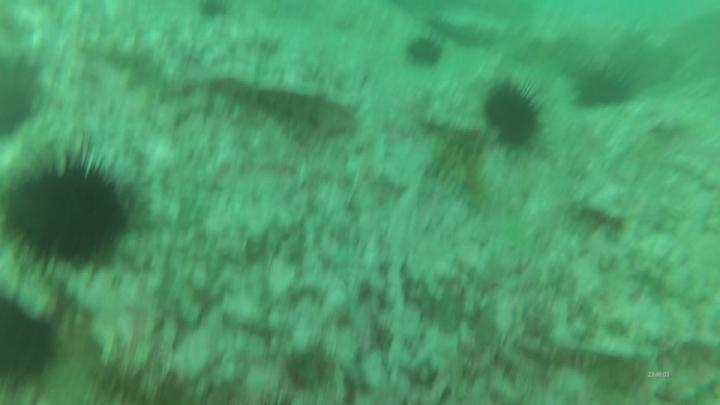echinus: (1, 140, 141, 283), (2, 288, 61, 394), (484, 76, 548, 157), (2, 60, 45, 139), (576, 66, 640, 110), (405, 32, 449, 66)
holothurian: (433, 141, 489, 215)
